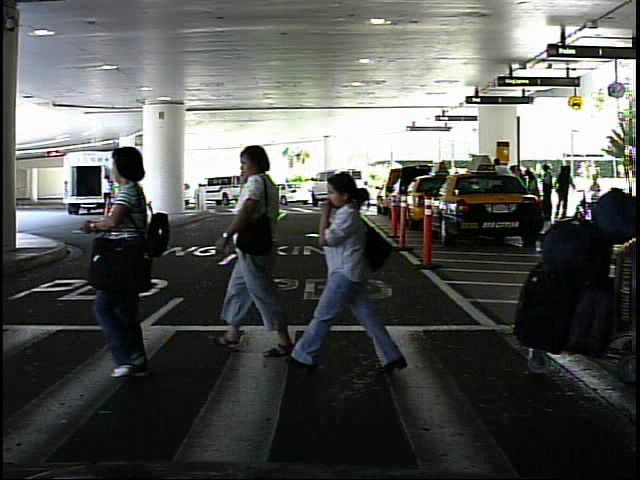person: (75, 135, 187, 383), (300, 160, 412, 381), (208, 139, 315, 360), (99, 172, 118, 222), (588, 172, 607, 203), (256, 178, 267, 204)
